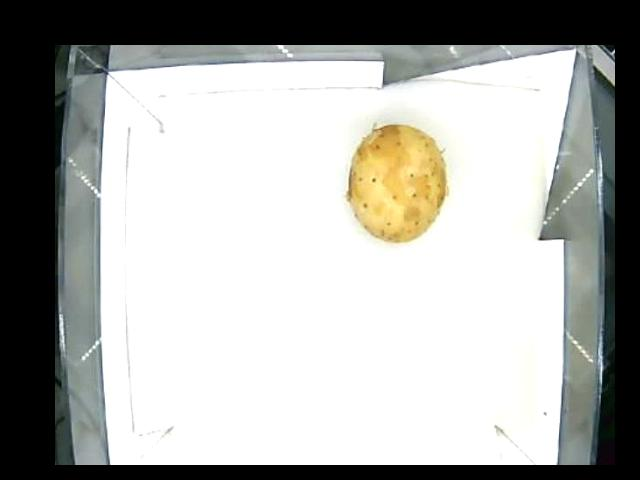Potato: (348, 124, 446, 243)
